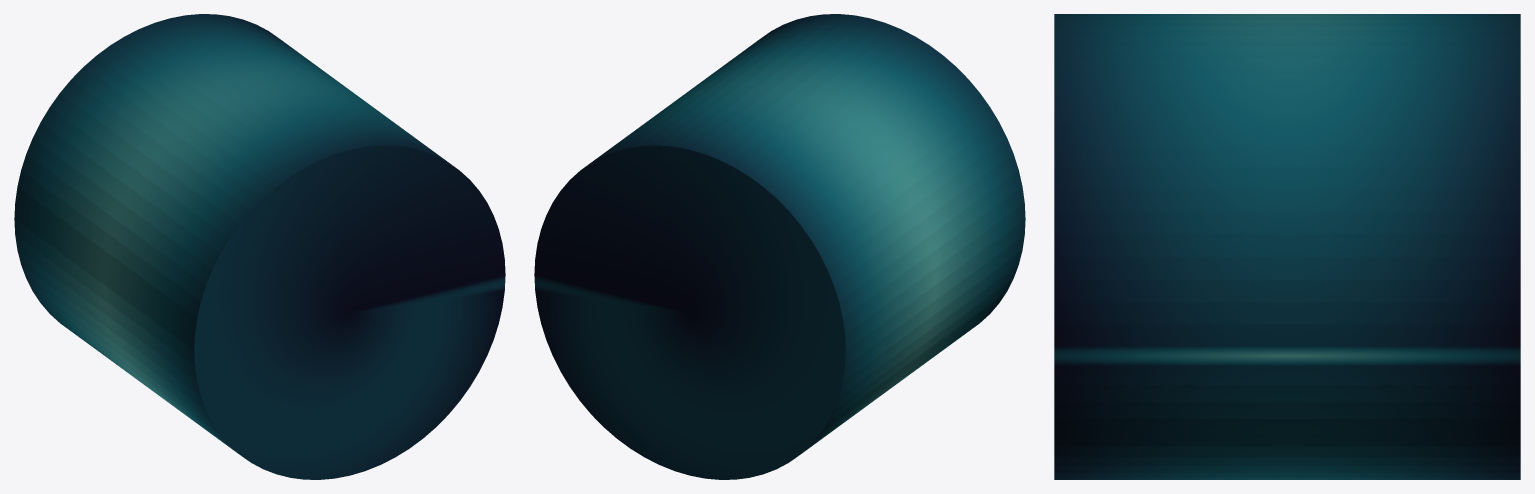
File: cylinder-ocean.glb
The picture shows the model from 3 angles, left to right: view 1: azimuth 30°, elevation 25°; view 2: azimuth 150°, elevation 25°; view 3: azimuth 270°, elevation 25°; orthographic projection. The views are drawn at different scales.
Visible parts, largest first — view 1: world; view 2: world; view 3: world.
Part boxes in pixels (x1,y1,x2,y2): world: [14, 14, 505, 479]; world: [534, 14, 1025, 479]; world: [1054, 14, 1520, 479].
Size of the model in its own units: 1 by 1 by 1.
1 material, 1 textured.
